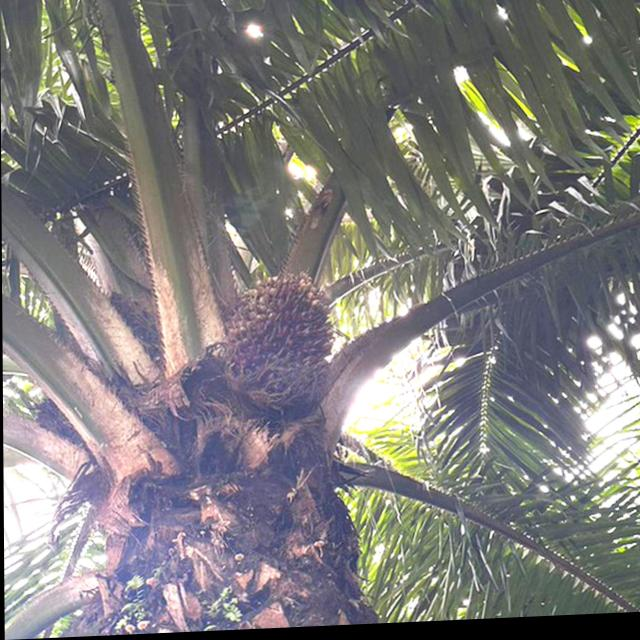ripe: (215, 261, 342, 427)
